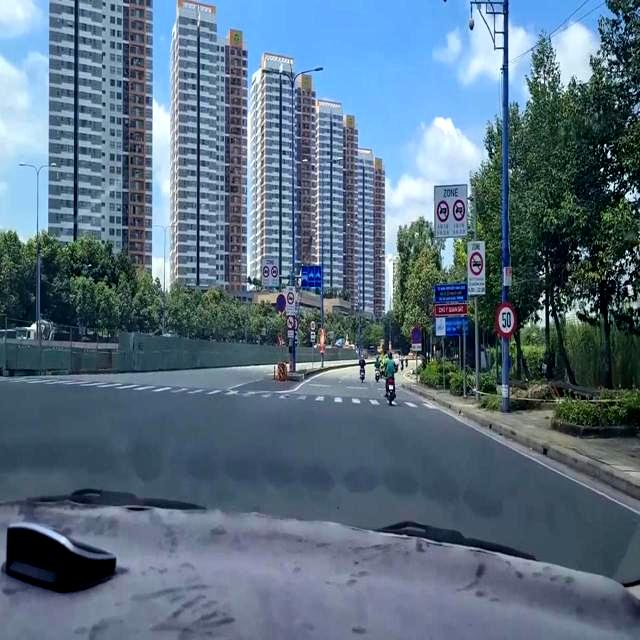Cấm các phương tiện hoạt động trong khung giờ cố định: (427, 182, 471, 236), (464, 240, 485, 304), (257, 252, 280, 288)
Cấm dừng - Cấm đỗ: (274, 289, 286, 313), (409, 325, 422, 343)
Cấm xe máy: (285, 313, 296, 331)
Giới hạn tốc độ: 50Km/h: (495, 299, 516, 336)
Giới hạn tốc độ: 80Km/h: (308, 320, 318, 333)
Khác: (430, 281, 469, 338)
Làn đường cho từng xe: (299, 258, 323, 291)
